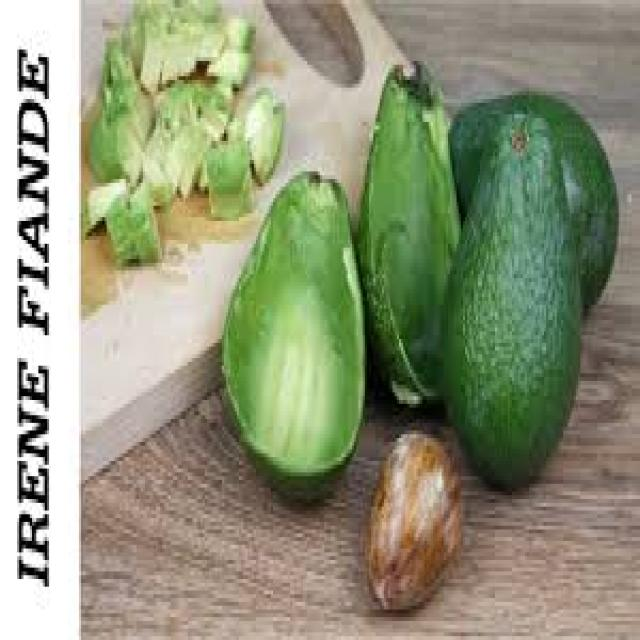avocado: (210, 135, 366, 519), (469, 94, 592, 497), (353, 16, 463, 462), (81, 0, 303, 218), (441, 91, 640, 281)
